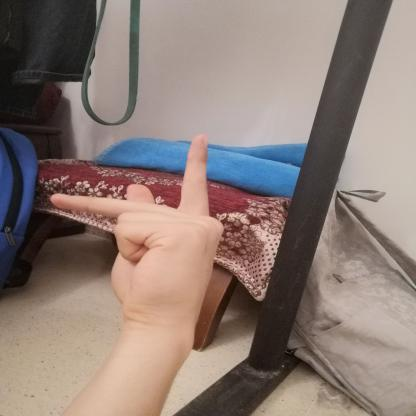DHAA: (33, 122, 242, 350)
